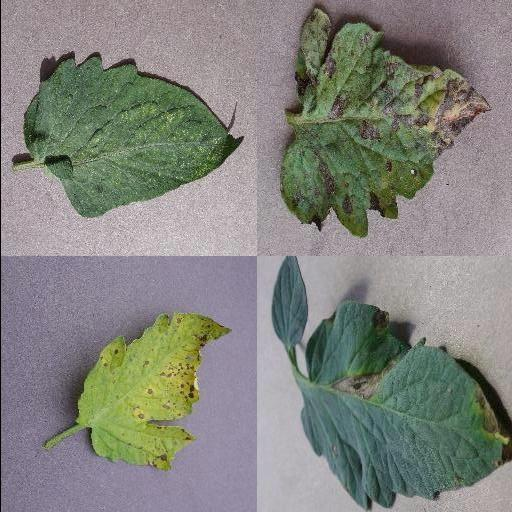Early Blight: (277, 10, 491, 234), (301, 299, 510, 512)
Healthy: (270, 256, 309, 346)
Septoria: (74, 314, 232, 474)
Spider Mites: (23, 54, 244, 219)
